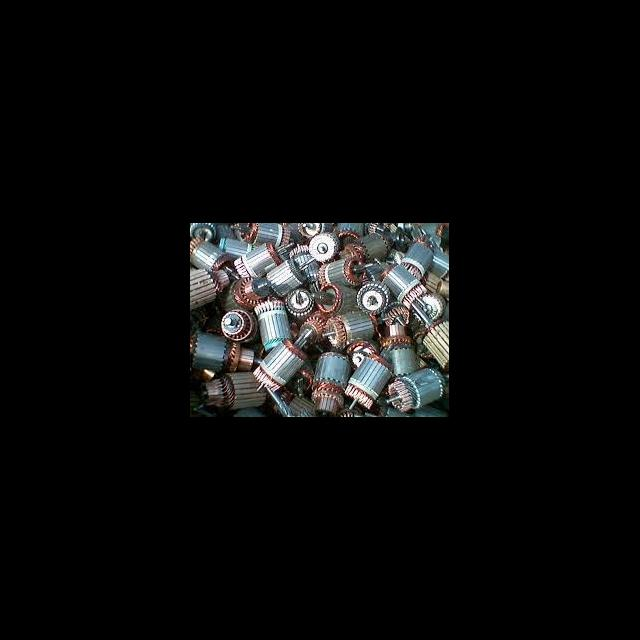metal: (196, 363, 272, 413), (190, 328, 268, 376), (248, 335, 306, 394), (382, 361, 444, 413), (342, 349, 393, 411), (372, 254, 430, 305), (230, 238, 300, 279), (317, 306, 383, 347), (250, 298, 300, 351), (308, 347, 346, 415), (222, 273, 276, 313), (190, 262, 232, 308), (262, 255, 314, 291), (314, 253, 376, 283), (352, 278, 397, 316), (396, 238, 438, 278), (190, 235, 233, 273), (218, 309, 262, 343), (280, 284, 318, 315)
